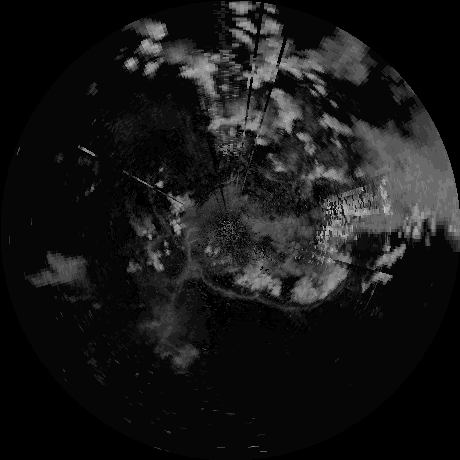frontgust: (150, 187, 181, 247), (203, 275, 256, 300), (260, 296, 315, 311)
